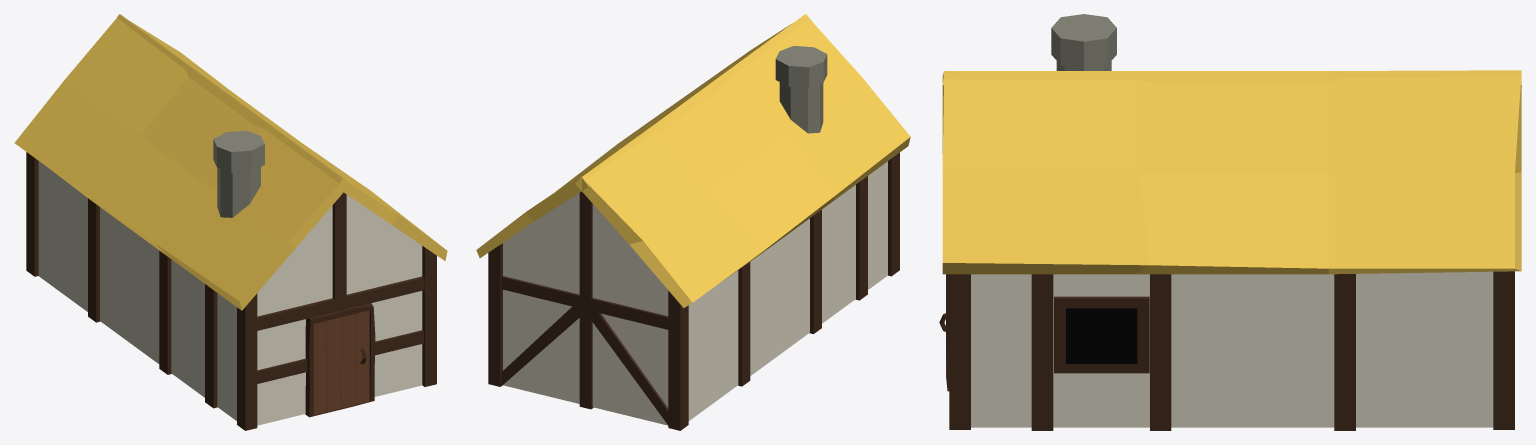
Rendered from peasant_house.glb.
3 renders of one model, left to right at view 1: azimuth 30°, elevation 25°; view 2: azimuth 150°, elevation 25°; view 3: azimuth 270°, elevation 25°, orthographic. The views are drawn at different scales.
Parts seen in each view (by area): view 1: Cube.024; view 2: Cube.024; view 3: Cube.024.
Boxes of the visible parts, bbox=[...] form: Cube.024: bbox=[14, 14, 447, 430]; Cube.024: bbox=[476, 14, 910, 430]; Cube.024: bbox=[939, 14, 1521, 430].
Bounding box in the file's own units: 5.54 × 5.93 × 10.03.
